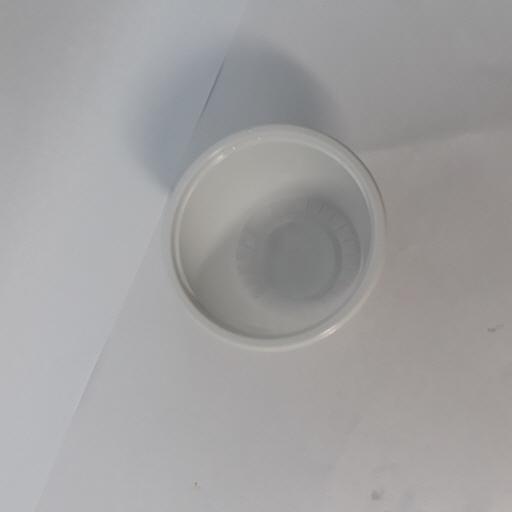Plastic_5: (148, 121, 388, 352)
